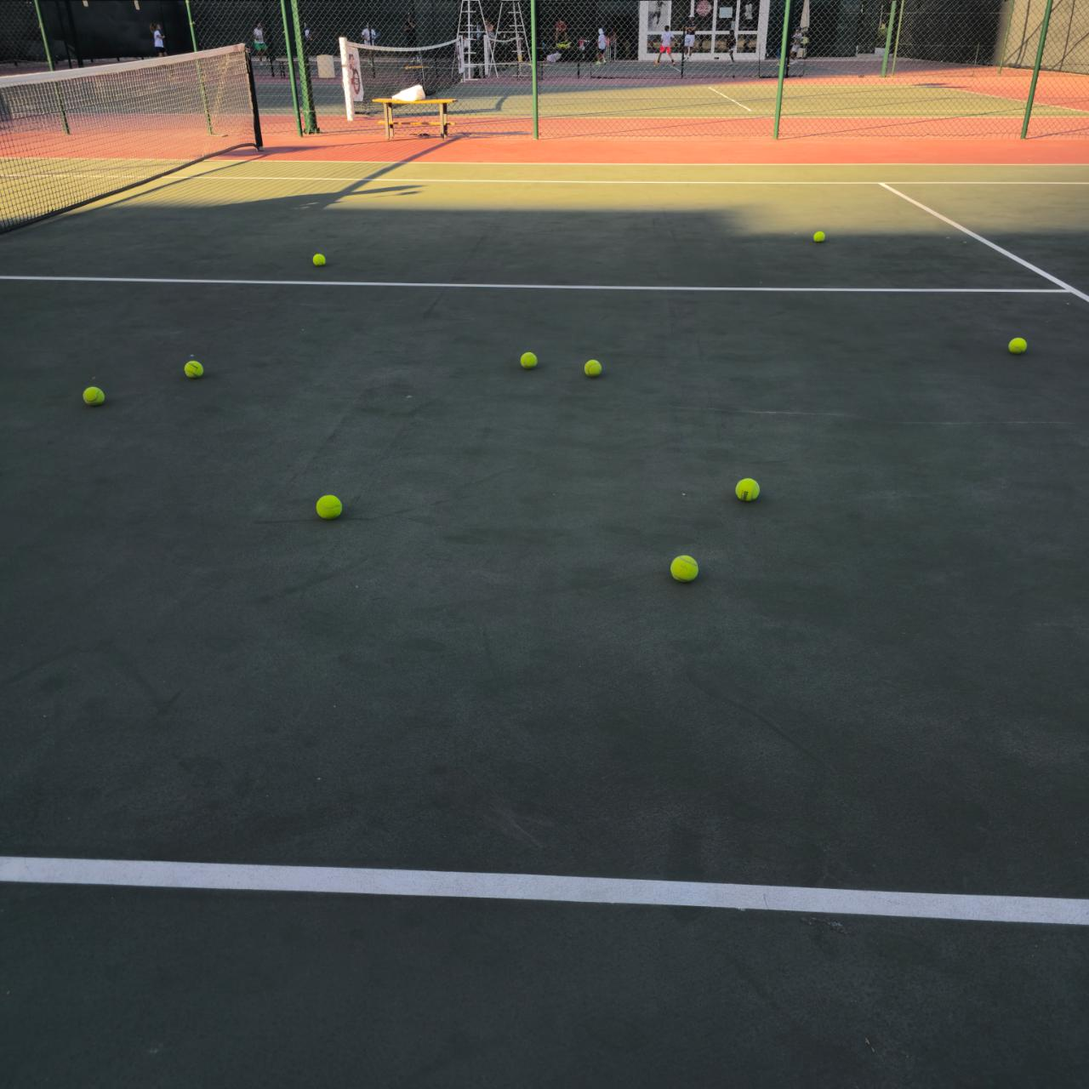tennis-ball: (669, 552, 698, 583), (314, 492, 343, 520), (733, 475, 761, 501), (81, 384, 105, 406), (182, 358, 203, 379), (581, 356, 602, 377), (1006, 334, 1028, 354), (518, 350, 538, 369), (310, 250, 326, 266), (811, 228, 825, 242)
